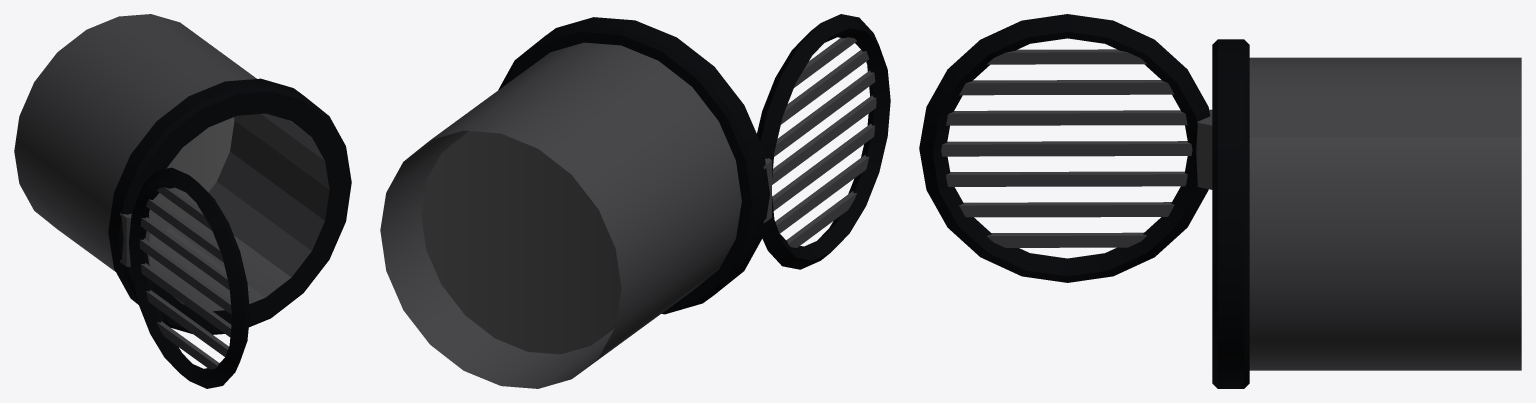
Rendered from Tuberia_JP.fbx.
The picture shows the model from 3 angles, left to right: view 1: azimuth 30°, elevation 25°; view 2: azimuth 150°, elevation 25°; view 3: azimuth 270°, elevation 25°; orthographic projection. The views are drawn at different scales.
Visible parts, largest first — view 1: polySurface16; view 2: polySurface16; view 3: polySurface16.
Part boxes in pixels (bbox=[...]): polySurface16: bbox=[14, 14, 351, 388]; polySurface16: bbox=[380, 14, 890, 388]; polySurface16: bbox=[919, 14, 1521, 388].
Bounding box in the file's own units: 5.22 × 5.22 × 8.93.
